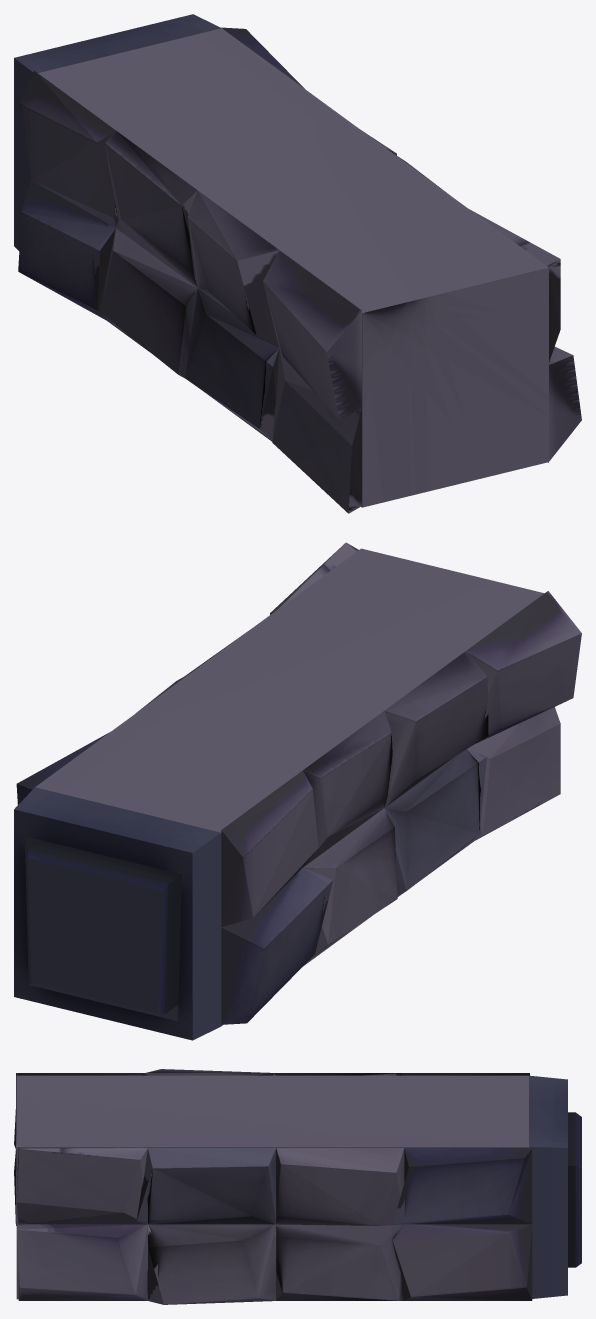
Rendered from wall.FBX.
3 views of the same model, one above another, from view 1: azimuth 30°, elevation 25°; view 2: azimuth 150°, elevation 25°; view 3: azimuth 270°, elevation 25° (orthographic). The views are drawn at different scales.
Visible parts, largest first — view 1: wall; view 2: wall; view 3: wall.
Part boxes in pixels (x1,y1,x2,y2): wall: (14, 14, 581, 513); wall: (14, 542, 581, 1040); wall: (14, 1069, 581, 1304).
Size of the model in its own units: 40.88 by 30.66 by 99.94.
